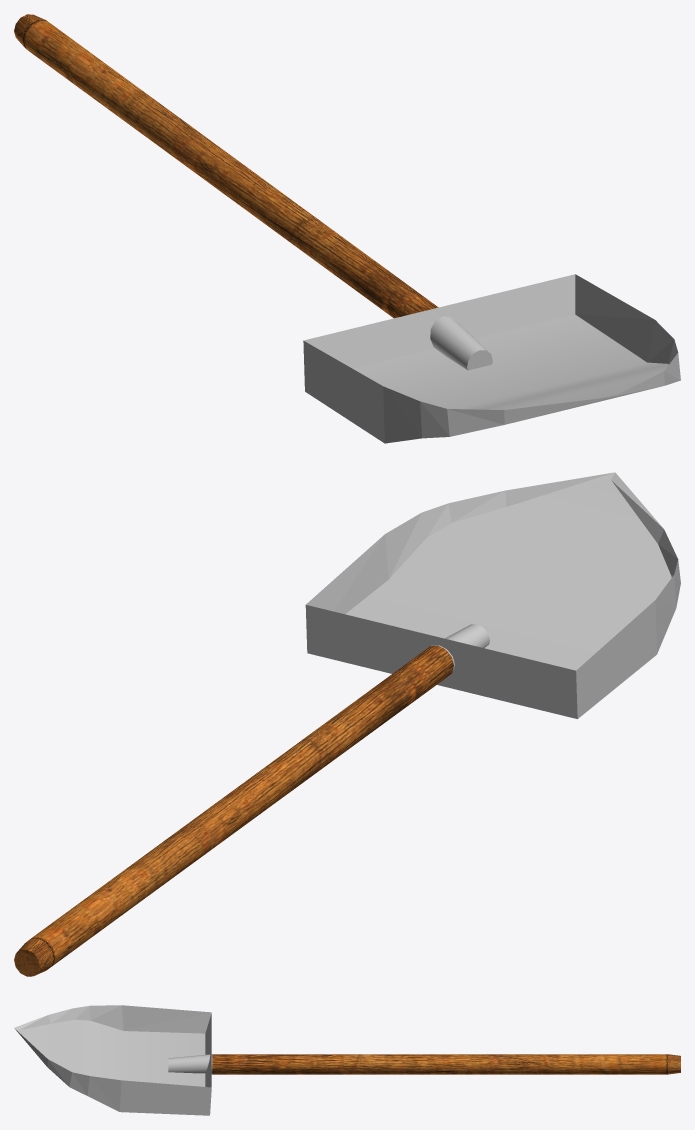
The model's file is Shovel.FBX.
3 renders of one model, top to bottom at view 1: azimuth 30°, elevation 25°; view 2: azimuth 150°, elevation 25°; view 3: azimuth 270°, elevation 25°, orthographic. The views are drawn at different scales.
Visible parts, largest first — view 1: Box001; view 2: Box001; view 3: Box001.
Boxes of the visible parts, x1,y1,x2,y2 form: Box001: (14, 14, 680, 443); Box001: (14, 472, 680, 976); Box001: (14, 1005, 680, 1115).
Size of the model in its own units: 16.42 by 5.11 by 61.61.
